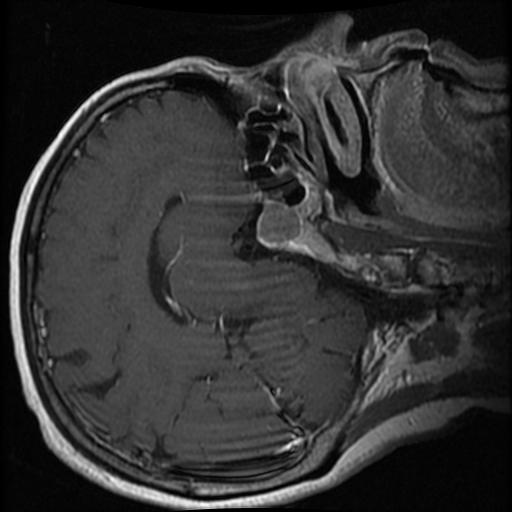pituitary tumour: (256, 201, 299, 244)
